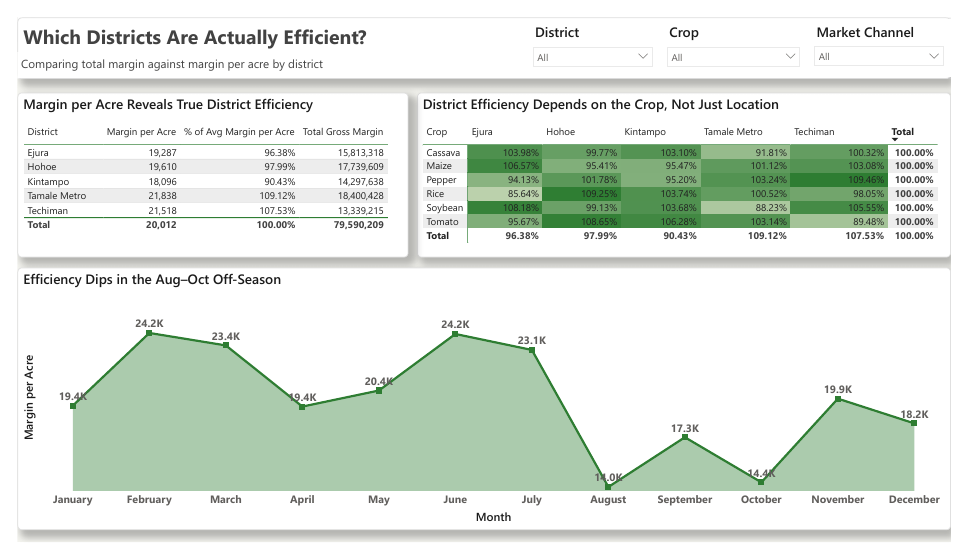

The dashboard page shown, as its layout file describes it:
{"tool":"powerbi","page":{"name":"District & Efficiency","canvas":[1280,720],"ordinal":1},"visuals":[{"type":"pivotTable","title":"District Efficiency Depends on the Crop, Not Just Location","fields":{"Rows":["Crops.Crop"],"Columns":["Districts.District"],"Values":["Farm_Records_RAW.% of Avg Margin per Acre"]},"box":[547.5,102.5,732.5,226.2],"z":0},{"type":"tableEx","title":"Margin per Acre Reveals True District Efficiency","fields":{"Values":["Districts.District","Farm_Records_RAW.Margin per Acre","Farm_Records_RAW.% of Avg Margin per Acre","Farm_Records_RAW.Total Gross Margin"]},"box":[0,102.5,536.2,226.2],"z":1000},{"type":"group","id":"g1","title":"Group 1","box":[0,0,1280,83.8],"z":2000},{"type":"textbox","box":[0,47.5,458.8,35],"z":3000},{"type":"textbox","box":[0,0,1280,83.8],"z":4000,"group":"g1"},{"type":"lineChart","title":"Efficiency Dips in the Aug–Oct Off-Season","fields":{"Category":["Farm_Records_RAW.Record Date.Variation.Date Hierarchy.Month"],"Y":["Farm_Records_RAW.Margin per Acre"]},"box":[0,342.5,1280,360],"z":4000},{"type":"slicer","fields":{"Values":["Districts.District"]},"box":[697.5,4.2,183.8,79.6],"z":5000,"group":"g1"},{"type":"slicer","fields":{"Values":["Crops.Crop"]},"box":[881.2,4.2,201.2,79.6],"z":6000,"group":"g1"},{"type":"slicer","fields":{"Values":["Farm_Records_RAW.Market Channel"]},"box":[1082.5,4.2,197.5,79.6],"z":7000,"group":"g1"}]}

Visuals, with their boxes in screenshot pixels (x1, y1, x2, y2), scaled from the page's 1280x720 canvas onto the 969x560 screenshot:
"District Efficiency Depends on the Crop, Not Just Location" pivotTable: locate(414, 80, 968, 256)
"Margin per Acre Reveals True District Efficiency" tableEx: locate(0, 80, 406, 256)
"Group 1" group: locate(0, 0, 968, 65)
textbox: locate(0, 37, 347, 64)
textbox: locate(0, 0, 968, 65)
"Efficiency Dips in the Aug–Oct Off-Season" lineChart: locate(0, 266, 968, 546)
slicer - Districts.District: locate(528, 3, 667, 65)
slicer - Crops.Crop: locate(667, 3, 819, 65)
slicer - Farm_Records_RAW.Market Channel: locate(819, 3, 968, 65)
